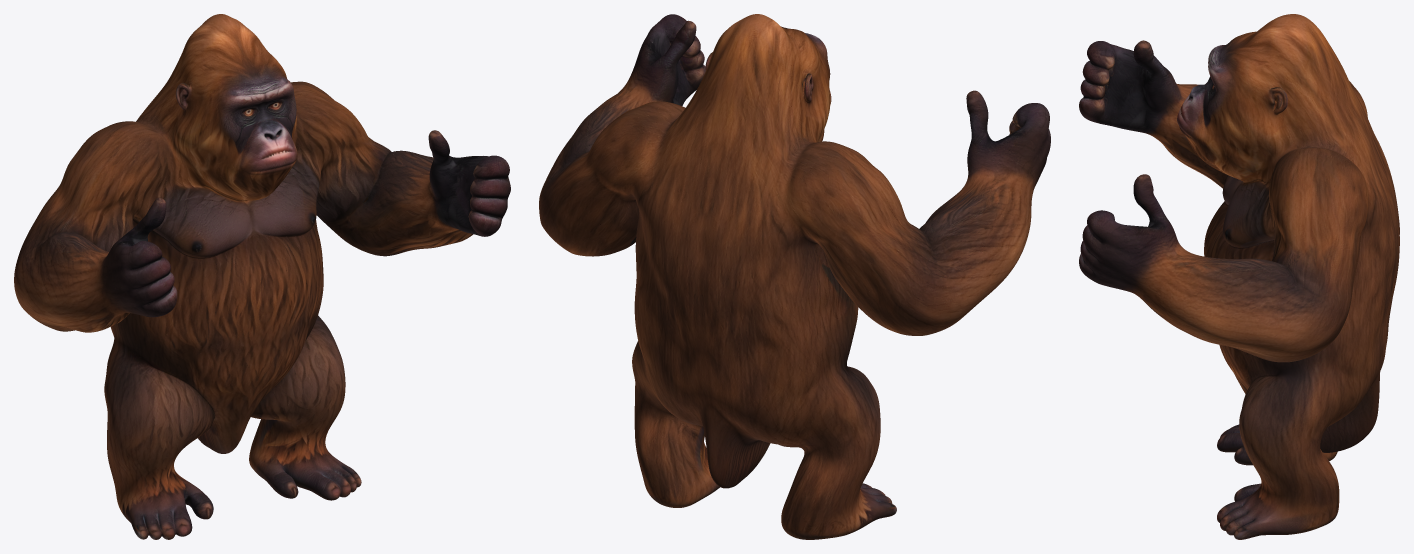
Rendered from boss_orangutan_textured.fbx.
3 renders of one model, left to right at view 1: azimuth 30°, elevation 25°; view 2: azimuth 150°, elevation 25°; view 3: azimuth 270°, elevation 25°, orthographic. The views are drawn at different scales.
Visible parts, largest first — view 1: Mesh_0; view 2: Mesh_0; view 3: Mesh_0.
Boxes of the visible parts, <box> form: Mesh_0: <box>14,14,510,539</box>; Mesh_0: <box>539,14,1050,539</box>; Mesh_0: <box>1079,14,1399,539</box>.
Bounding box in the file's own units: 179 × 190 × 117.
1 material, 1 textured.
